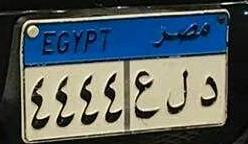4: (77, 72, 100, 127), (53, 73, 72, 129), (31, 75, 49, 129), (104, 69, 120, 127)
ain: (130, 68, 157, 120)
daal: (199, 74, 219, 108)
laam: (163, 68, 192, 116)
